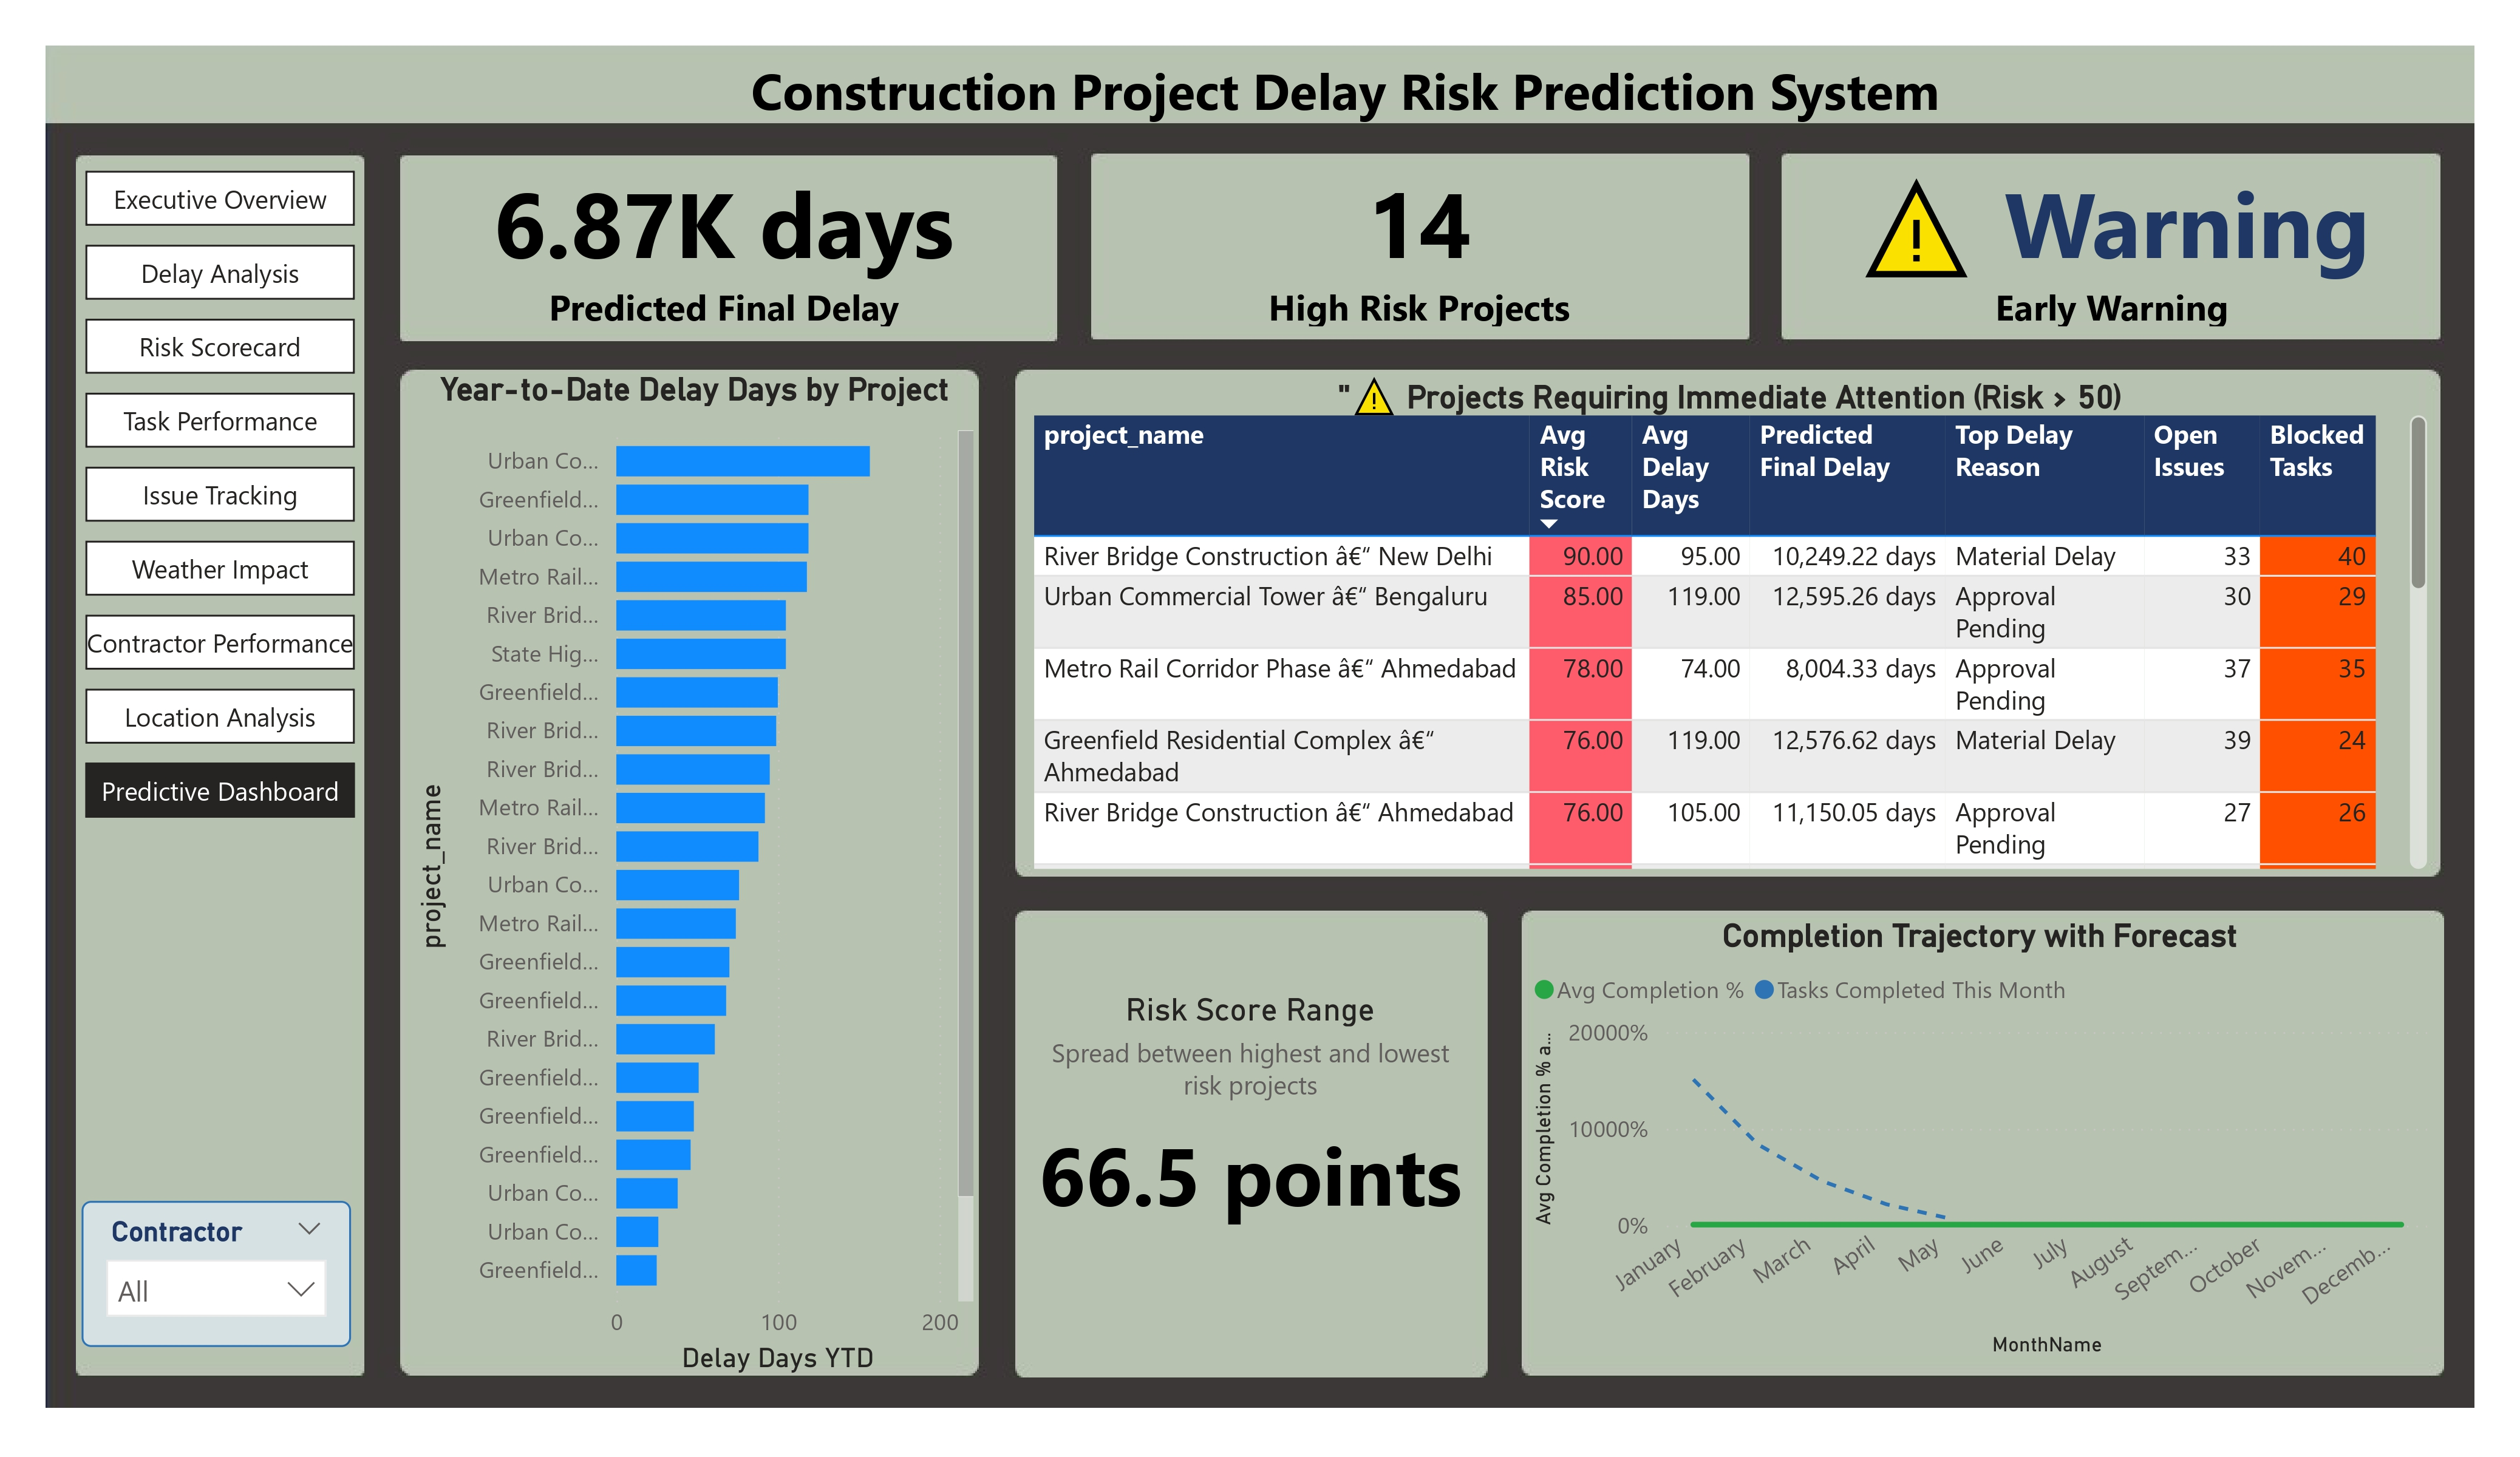

What the dashboard file says about the page in this screenshot:
{"tool":"powerbi","page":{"name":"Predictive Dashboard","canvas":[1280,720],"ordinal":8},"visuals":[{"type":"card","fields":{"Values":["**Measures**.Predicted Final Delay"]},"box":[181.2,56.2,352.5,96.2],"z":0},{"type":"card","fields":{"Values":["**Measures**.Early Warning"]},"box":[908.8,56.2,360,96.2],"z":1000},{"type":"tableEx","title":"\"⚠️ Projects Requiring Immediate Attention (Risk > 50)","fields":{"Values":["factprojectmetrics.project_name","**Measures**.Avg Risk Score","**Measures**.Avg Delay Days","**Measures**.Predicted Final Delay","**Measures**.Top Delay Reason","**Measures**.Open Issues","**Measures**.Blocked Tasks"]},"box":[515,171.2,745,267.5],"z":2000},{"type":"lineChart","title":"Completion Trajectory with Forecast","fields":{"Y":["**Measures**.Avg Completion %","**Measures**.Tasks Completed This Month"],"Category":["DimDate.MonthName"]},"box":[778.8,458.8,481.2,237.5],"z":3000},{"type":"clusteredBarChart","title":"Year-to-Date Delay Days by Project","fields":{"Category":["factprojectmetrics.project_name"],"Y":["**Measures**.Delay Days YTD"]},"box":[190,171.2,303.8,533.8],"z":4000},{"type":"slicer","fields":{"Values":["factprojectmetrics.contractor_name"]},"box":[18.8,608.8,142.5,77.5],"z":5000},{"type":"card","fields":{"Values":["**Measures**.High Risk Projects"]},"box":[547.5,56.2,352.5,96.2],"z":6000},{"type":"pageNavigator","box":[21.2,66.2,141.2,343.8],"z":7000},{"type":"card","title":"Risk Score Range","fields":{"Values":["**Measures**.Risk Spread"]},"box":[514.6,497.6,240.3,134.5],"z":9000},{"type":"textbox","box":[366.7,0,656,56],"z":9001}]}

Visuals, with their boxes on the page's 1280x720 design canvas (x1, y1, x2, y2). These are canvas units, not pixel positions in the 2520x1457 screenshot, which may show the page scaled, cropped or inside an application window:
card - **Measures**.Predicted Final Delay: detection(181, 56, 534, 152)
card - **Measures**.Early Warning: detection(909, 56, 1269, 152)
""⚠️ Projects Requiring Immediate Attention (Risk > 50)" tableEx: detection(515, 171, 1260, 439)
"Completion Trajectory with Forecast" lineChart: detection(779, 459, 1260, 696)
"Year-to-Date Delay Days by Project" clusteredBarChart: detection(190, 171, 494, 705)
slicer - factprojectmetrics.contractor_name: detection(19, 609, 161, 686)
card - **Measures**.High Risk Projects: detection(548, 56, 900, 152)
pageNavigator: detection(21, 66, 162, 410)
"Risk Score Range" card: detection(515, 498, 755, 632)
textbox: detection(367, 0, 1023, 56)
